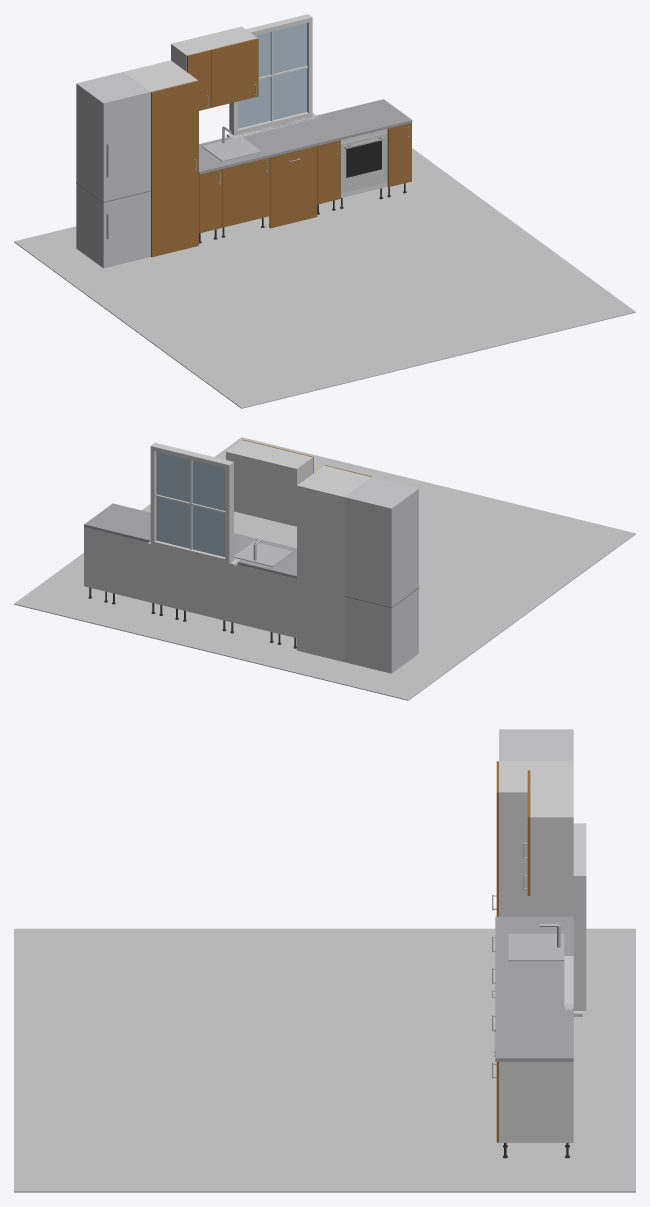
File: hybrid_ishape_validation.glb
3 views of the same model, one above another, from view 1: azimuth 30°, elevation 25°; view 2: azimuth 150°, elevation 25°; view 3: azimuth 270°, elevation 25° (orthographic). The views are drawn at different scales.
Parts seen in each view (by area): view 1: world; view 2: world; view 3: world.
Part boxes in pixels (left/top/right/bottom): world: left=14, top=14, right=635, bottom=408; world: left=14, top=437, right=635, bottom=700; world: left=14, top=729, right=635, bottom=1192.
Bounding box in the file's own units: 500 × 221 × 500.
